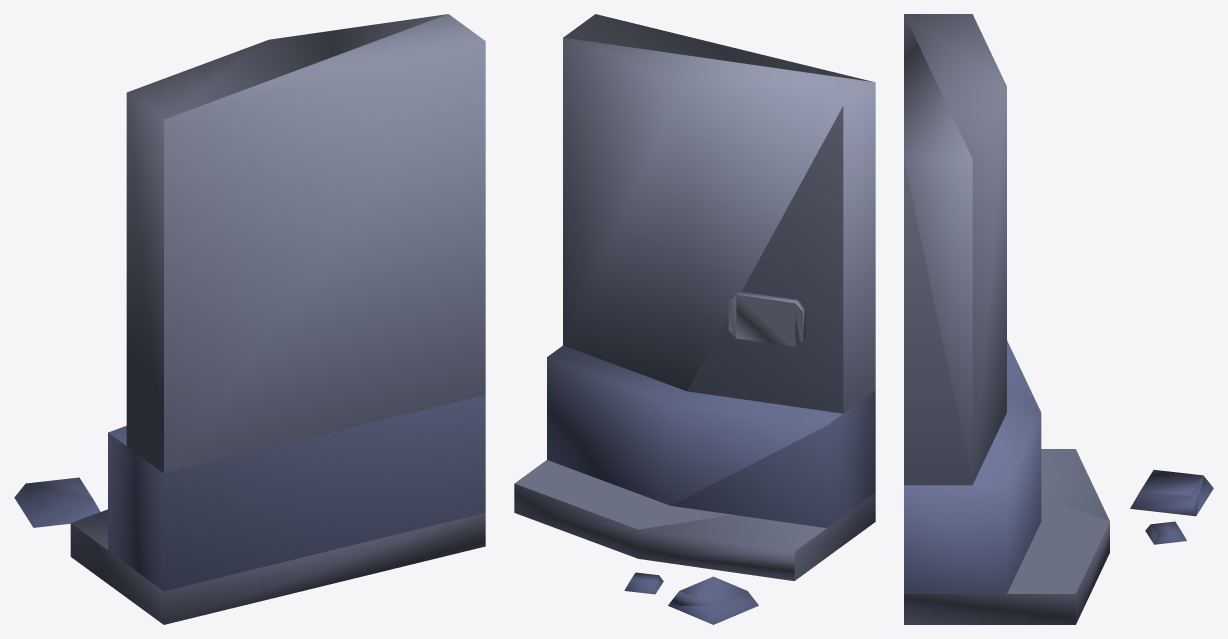
File: template-wall-half_lev2.glb
3 views of the same model, side by side, from view 1: azimuth 30°, elevation 25°; view 2: azimuth 150°, elevation 25°; view 3: azimuth 270°, elevation 25° (orthographic). The views are drawn at different scales.
Parts seen in each view (by area): view 1: template-wall-half_lev2; view 2: template-wall-half_lev2; view 3: template-wall-half_lev2.
Boxes of the visible parts, x1,y1,x2,y2 form: template-wall-half_lev2: [14, 14, 485, 624]; template-wall-half_lev2: [514, 14, 875, 624]; template-wall-half_lev2: [904, 14, 1213, 624].
Bounding box in the file's own units: 2 × 3 × 1.81.
Materials: 1 (1 with a texture image).
